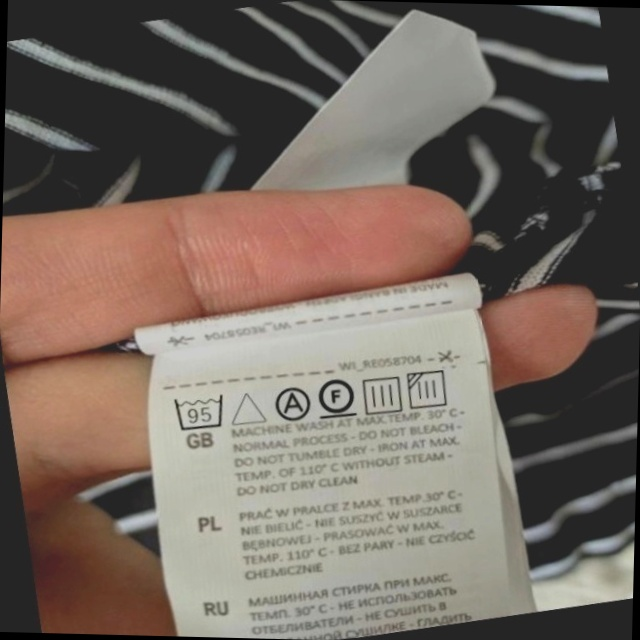95C: (169, 387, 232, 436)
bleach: (226, 384, 269, 431)
drip_dry: (357, 369, 408, 419)
drip_dry_in_shade: (403, 364, 456, 416)
dry_clean: (269, 382, 314, 426)
dry_clean_petrol_only: (313, 370, 361, 423)
